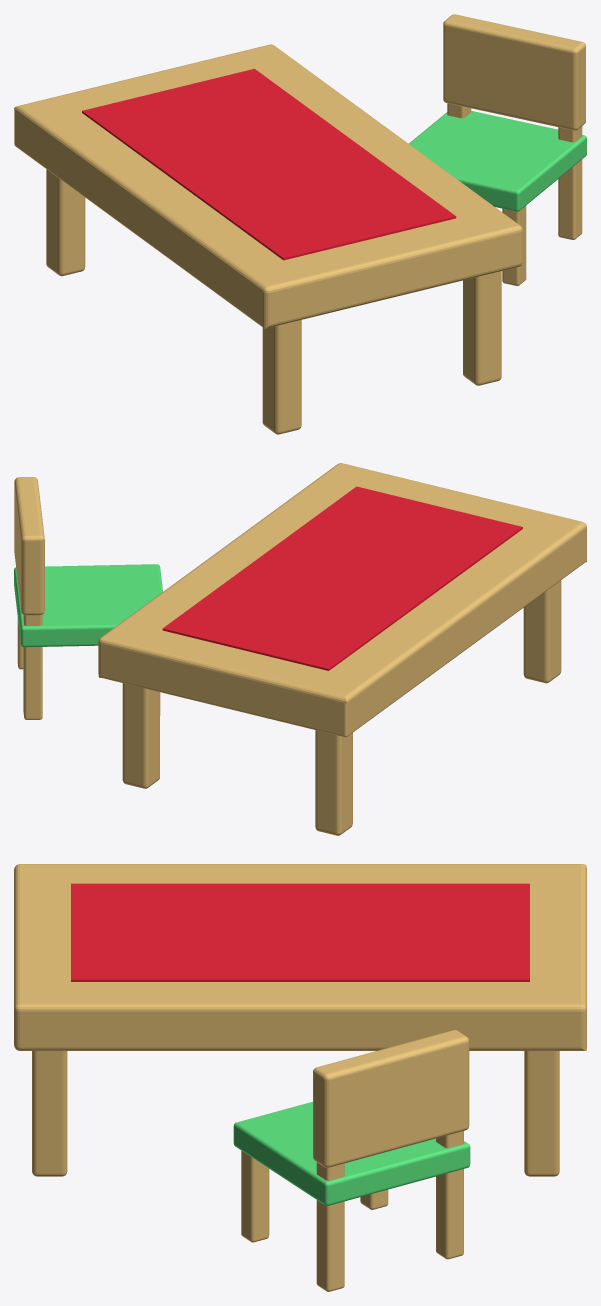
3 renders of one model, top to bottom at view 1: azimuth 30°, elevation 25°; view 2: azimuth 150°, elevation 25°; view 3: azimuth 270°, elevation 25°, orthographic. The views are drawn at different scales.
Parts seen in each view (by area): view 1: desk, 立方体.005, 立方体.004, leg.001, leg, leg.003, 立方体.006, 立方体.008; view 2: desk, 立方体.004, 立方体.005, leg.003, leg.002, leg.001, 立方体.007; view 3: desk, 立方体.005, 立方体.004, leg, leg.002, 立方体.006, 立方体.007, 立方体.008.
Boxes of the visible parts, bbox=[...] form: desk: bbox=[14, 44, 522, 328]; 立方体.005: bbox=[443, 14, 585, 130]; 立方体.004: bbox=[409, 111, 586, 211]; leg.001: bbox=[262, 320, 301, 434]; leg: bbox=[463, 271, 501, 385]; leg.003: bbox=[46, 169, 85, 276]; 立方体.006: bbox=[558, 126, 582, 239]; 立方体.008: bbox=[502, 205, 526, 286]; desk: bbox=[98, 463, 586, 737]; 立方体.004: bbox=[14, 564, 162, 647]; 立方体.005: bbox=[14, 477, 44, 615]; leg.003: bbox=[315, 730, 352, 835]; leg.002: bbox=[122, 683, 159, 788]; leg.001: bbox=[523, 580, 561, 683]; 立方体.007: bbox=[23, 614, 42, 719]; desk: bbox=[14, 864, 586, 1050]; 立方体.005: bbox=[313, 1030, 469, 1167]; 立方体.004: bbox=[233, 1101, 470, 1205]; leg: bbox=[32, 1051, 67, 1176]; leg.002: bbox=[524, 1051, 559, 1176]; 立方体.006: bbox=[316, 1162, 344, 1291]; 立方体.007: bbox=[436, 1131, 463, 1259]; 立方体.008: bbox=[241, 1150, 269, 1242].
Size of what is drawn, in the model's own units: 3.54 by 1.43 by 3.36.
